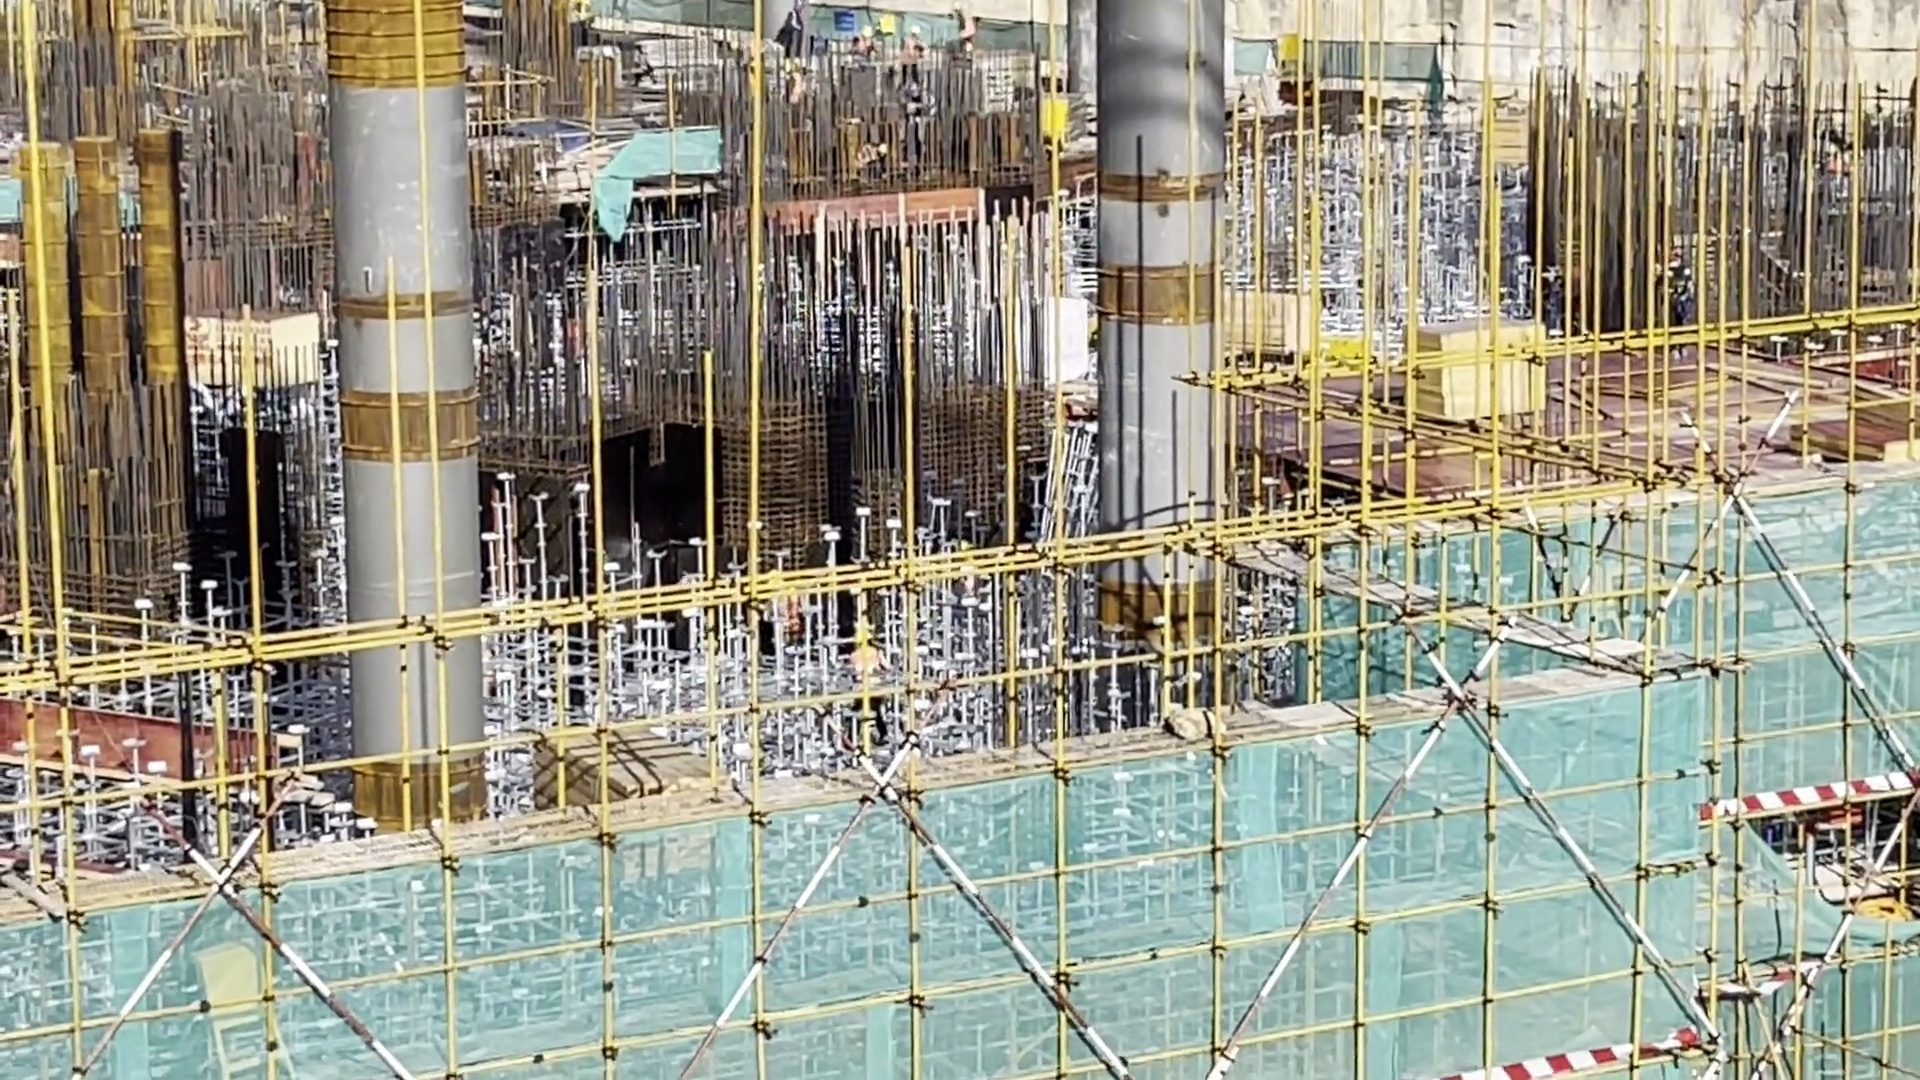ebox: (182, 940, 275, 1067), (1037, 91, 1073, 148), (1273, 31, 1299, 72)
person: (830, 125, 890, 175), (850, 23, 889, 76), (947, 6, 988, 48), (901, 28, 928, 77)
